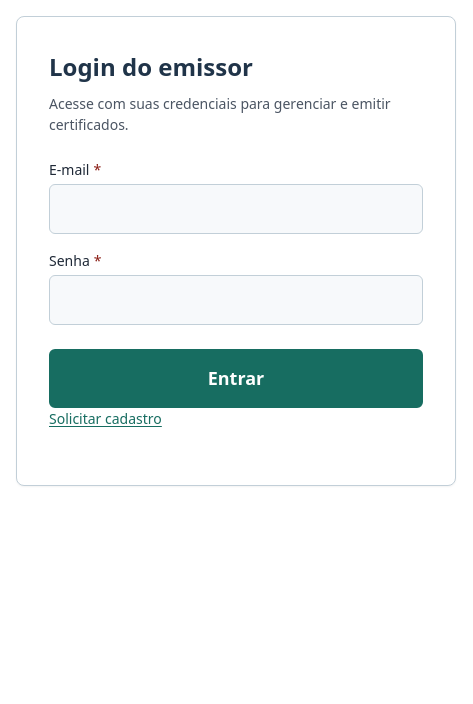
CadastroEmissorPage › apresenta links de navegação entre login e cadastro
The width and height of the screenshot is (473, 704).
What coordinates should you click on to do the following:
click the link "Solicitar cadastro"
I would click on:
 (105, 418)
Its box is [49,408,162,428].
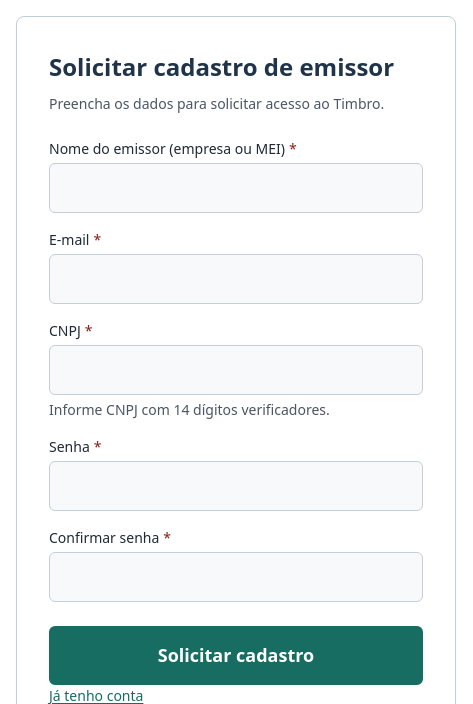
Expected: the heading "Solicitar cadastro de emissor" is shown, [49,49,423,85]
What coordinates should you click on to do the following:
click the link "Já tenho conta"
I would click on:
 (96, 695)
Its box is [49,686,143,703].
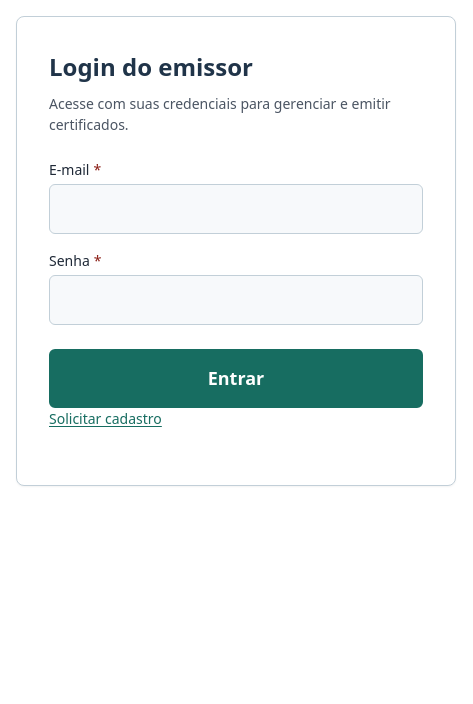
Expected: the heading "Login do emissor" is shown, [49,50,253,83]
